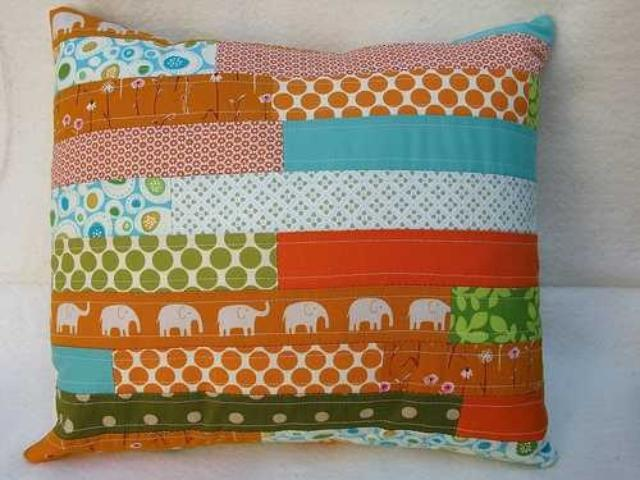pillow: (24, 5, 560, 467)
